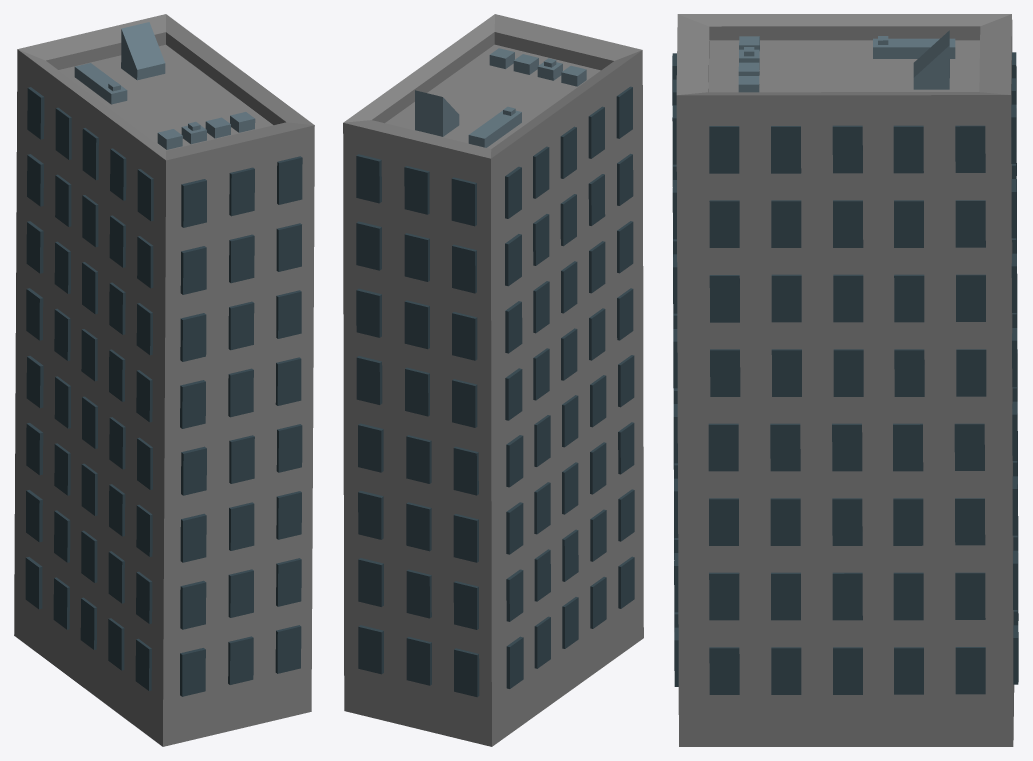
Rendered from modelno.gltf.
3 views of the same model, side by side, from view 1: azimuth 30°, elevation 25°; view 2: azimuth 150°, elevation 25°; view 3: azimuth 270°, elevation 25° (orthographic). The views are drawn at different scales.
Visible parts, largest first — view 1: node_MeshObject1576788224-PolyPaper17; view 2: node_MeshObject1576788224-PolyPaper17; view 3: node_MeshObject1576788224-PolyPaper17.
Boxes of the visible parts, x1,y1,x2,y2 form: node_MeshObject1576788224-PolyPaper17: (14, 14, 314, 746); node_MeshObject1576788224-PolyPaper17: (343, 14, 643, 746); node_MeshObject1576788224-PolyPaper17: (672, 14, 1018, 746).
Size of the model in its own units: 0.389 by 1.46 by 0.673.
